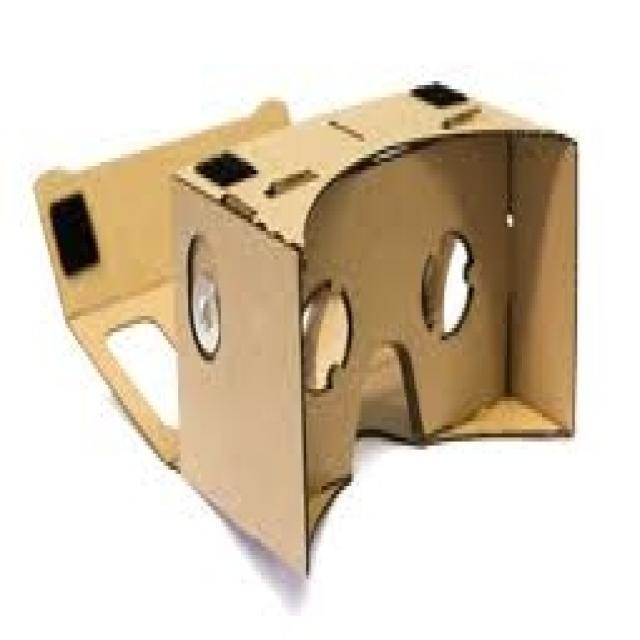cardboard paper: (35, 82, 574, 570)
